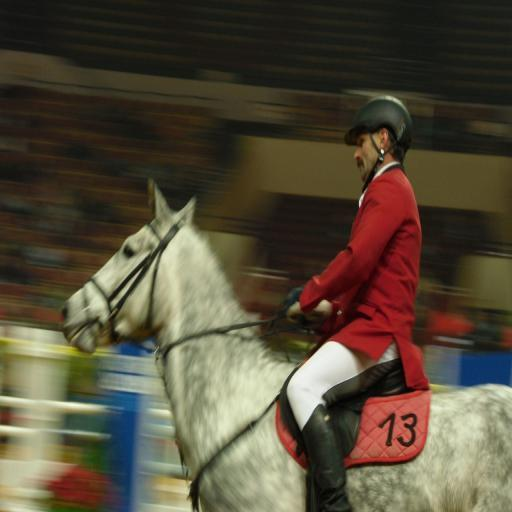horse: (58, 176, 512, 512)
